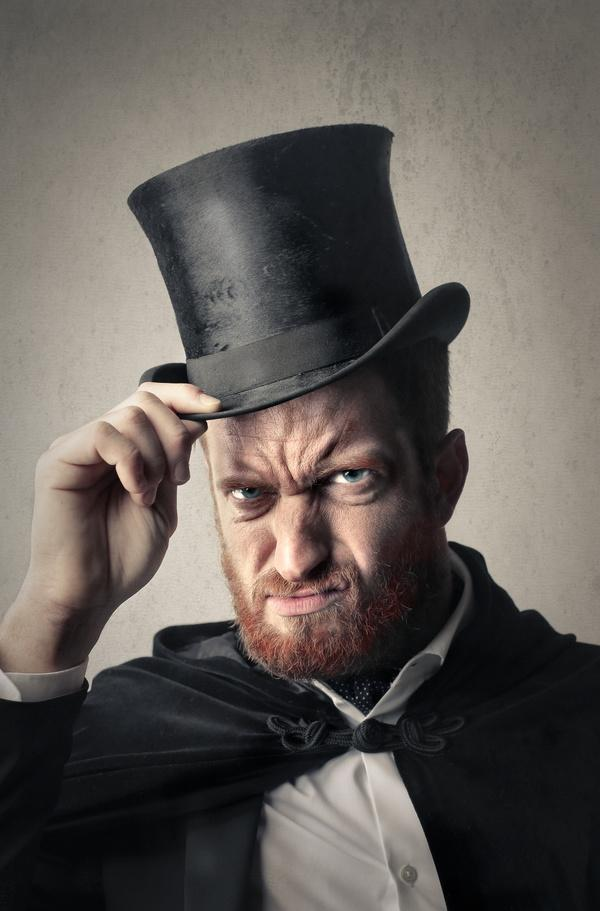cap: (118, 93, 508, 428)
